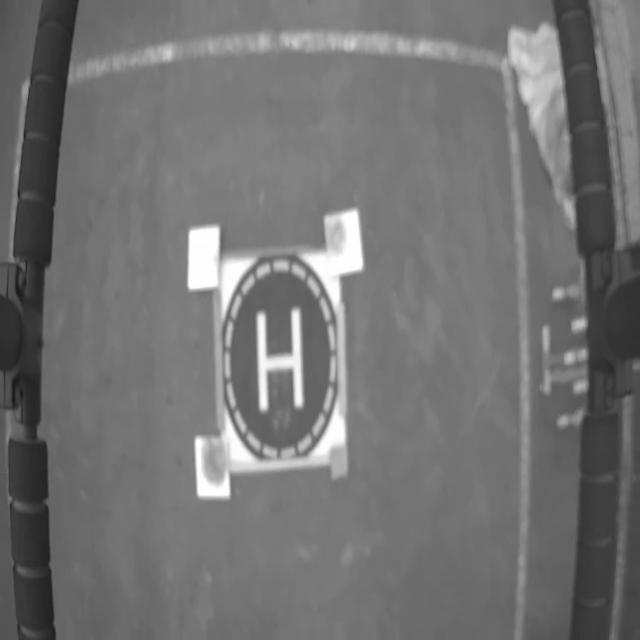Helipad: (256, 309, 305, 417)
